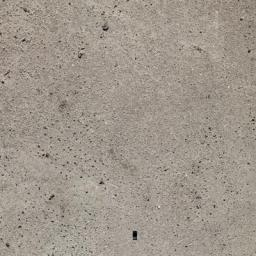FOD: (130, 228, 141, 246)
